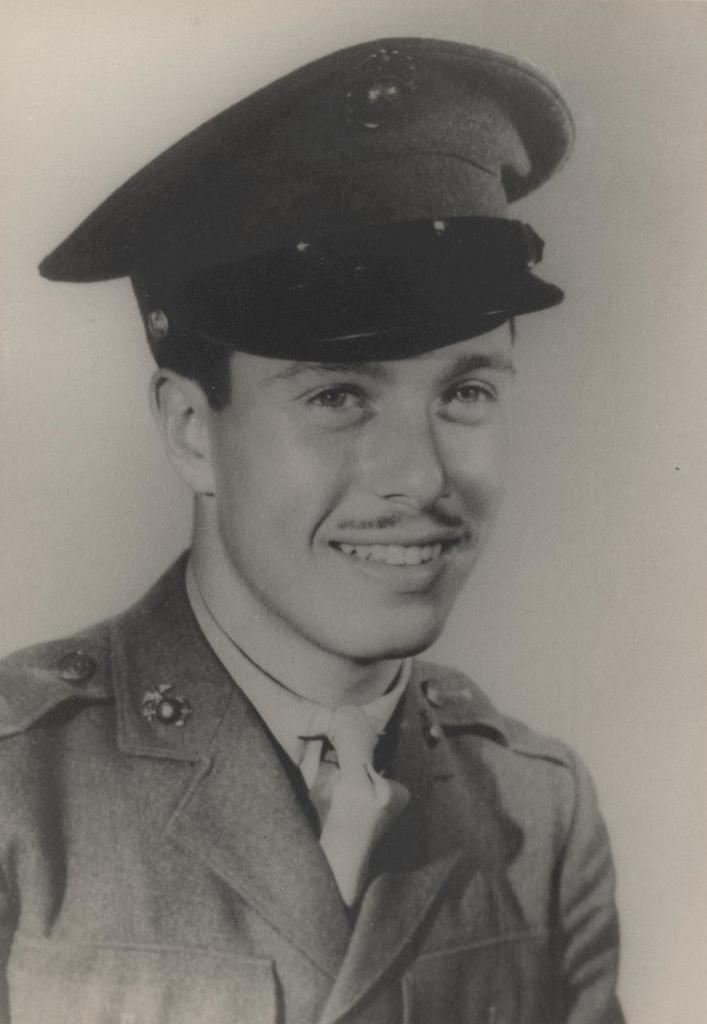Hat: (40, 36, 577, 363)
